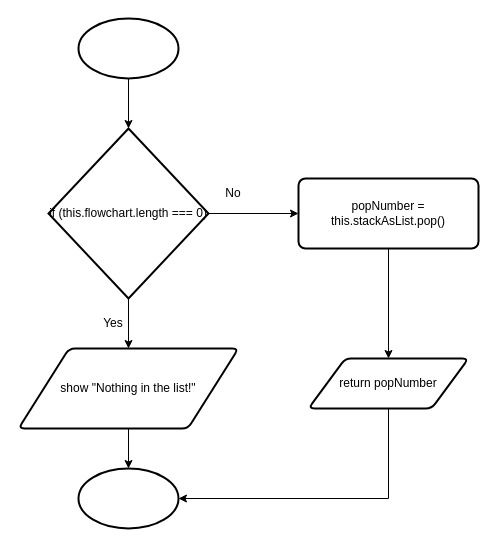
This 496x546 diagram has some shape labels left out. The shapes that lost their labels are listed below. From the top down, each one's box as (x1, y1, x2, y2) in pixels, then its label:
(77, 17, 179, 79): Start
(77, 467, 179, 529): Stop
